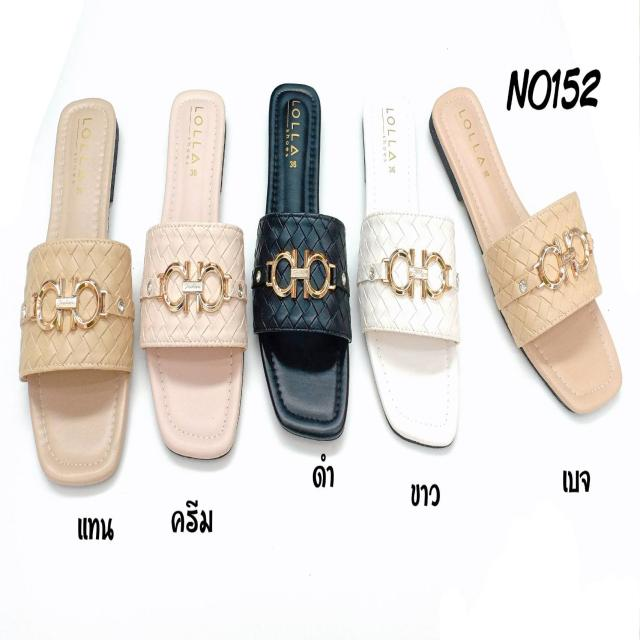bej: (433, 78, 624, 418)
black: (248, 84, 354, 430)
cream: (139, 90, 245, 456)
tan: (28, 92, 130, 497)
white: (358, 91, 457, 449)
